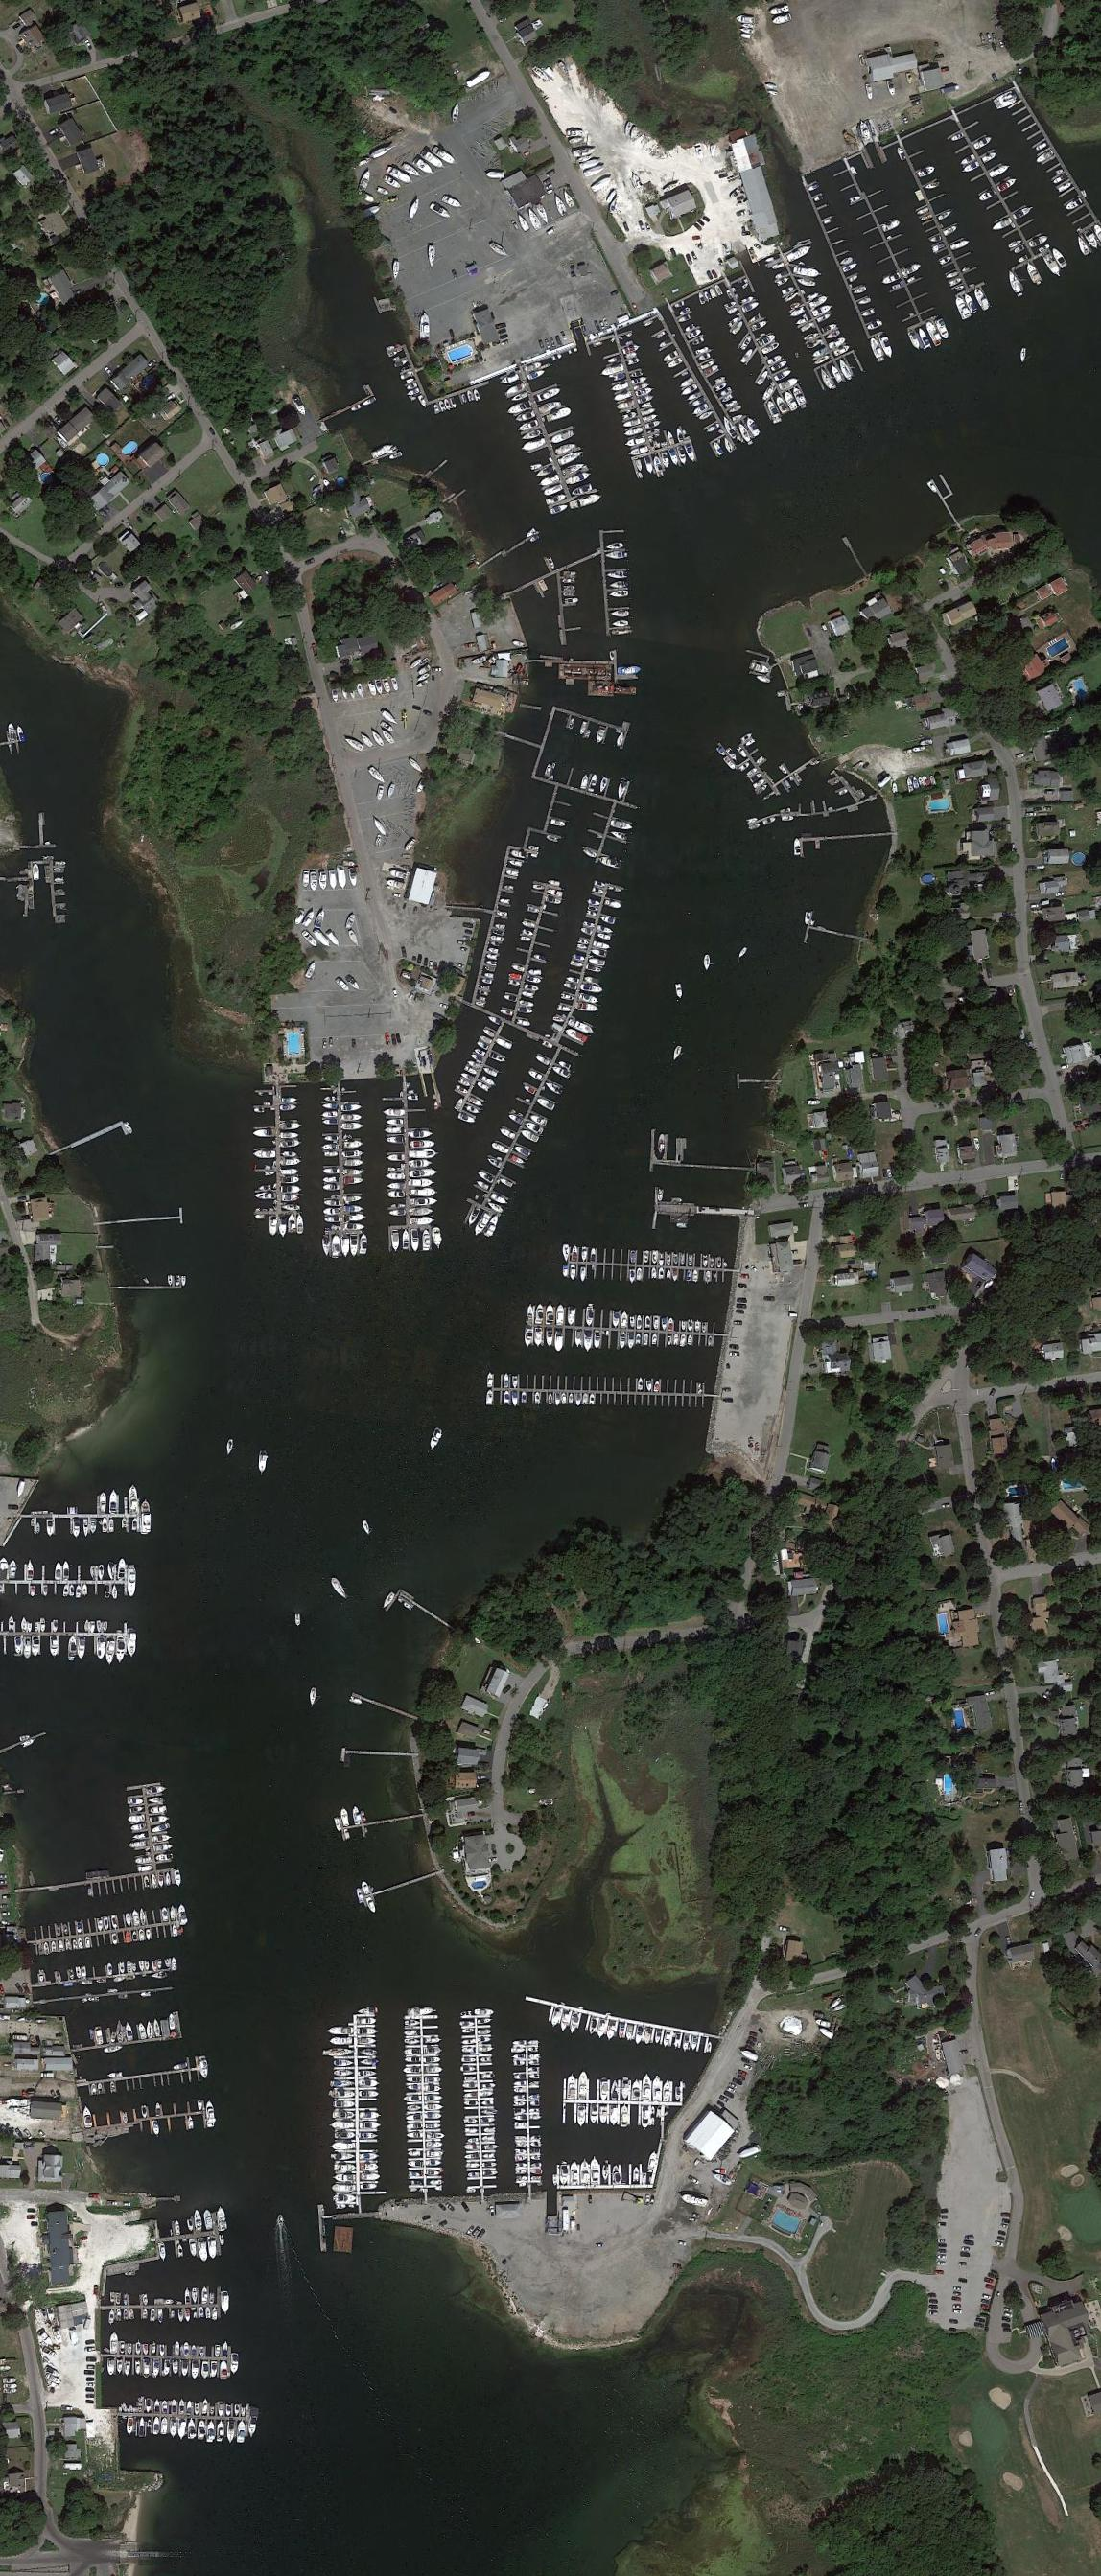harbor: (457, 1040, 578, 1240), (828, 148, 943, 332), (638, 297, 766, 462), (938, 105, 1057, 271), (493, 355, 606, 522), (884, 133, 989, 299), (705, 268, 813, 424), (764, 241, 869, 394), (996, 89, 1099, 235), (802, 169, 887, 342), (518, 1991, 720, 2062), (547, 879, 629, 1046), (524, 1299, 726, 1360), (325, 2003, 381, 2216), (498, 881, 569, 1032), (485, 1368, 716, 1414), (467, 843, 529, 1009), (26, 1902, 192, 1960), (383, 1094, 442, 1252), (598, 330, 669, 457), (440, 1014, 521, 1124), (565, 1242, 738, 1293), (320, 1079, 368, 1258), (120, 2392, 263, 2451), (401, 2006, 445, 2193), (251, 1086, 304, 1235), (30, 1955, 182, 2006), (458, 2008, 498, 2196), (564, 2073, 687, 2132), (20, 1488, 158, 1541), (748, 784, 882, 836), (18, 1863, 182, 1906), (2, 1553, 138, 1603), (2, 1612, 140, 1661), (102, 2338, 243, 2385), (537, 752, 649, 812), (77, 2052, 214, 2100), (89, 2098, 217, 2146), (357, 1851, 447, 1917), (550, 692, 643, 756), (721, 726, 790, 812), (623, 421, 707, 488), (67, 2009, 182, 2057), (651, 1125, 753, 1176), (652, 1184, 744, 1240), (43, 1114, 135, 1168), (102, 2288, 233, 2326), (125, 1779, 176, 1876), (513, 2039, 544, 2195), (575, 795, 639, 871), (385, 1585, 460, 1648), (532, 641, 644, 682), (339, 1792, 426, 1843), (156, 2208, 235, 2262), (600, 529, 633, 637), (795, 826, 896, 859), (527, 779, 580, 841), (805, 913, 873, 961), (557, 2159, 652, 2190), (477, 526, 541, 570), (927, 471, 971, 532), (552, 568, 587, 646), (348, 1689, 421, 1725), (314, 384, 375, 424), (97, 1209, 182, 1234), (340, 1740, 417, 1766), (21, 813, 56, 848), (110, 1278, 186, 1290)
ship: (549, 882, 626, 1043), (674, 302, 748, 422), (475, 848, 526, 1009), (513, 2042, 541, 2185), (629, 1252, 731, 1285), (559, 664, 613, 680), (569, 491, 605, 513), (383, 163, 414, 186), (419, 146, 447, 171), (463, 67, 493, 90), (695, 284, 725, 307), (431, 145, 457, 168), (991, 90, 1019, 112), (557, 449, 587, 468), (1006, 268, 1025, 297), (329, 1574, 350, 1600), (971, 288, 993, 314), (473, 1209, 493, 1237), (785, 243, 813, 263), (1043, 251, 1063, 279), (868, 337, 887, 365), (876, 332, 896, 360), (534, 386, 564, 404), (988, 159, 1012, 181), (532, 200, 552, 227), (564, 1025, 590, 1045), (588, 174, 615, 194), (953, 296, 973, 322), (565, 470, 593, 488), (549, 427, 577, 445), (560, 460, 588, 478), (506, 399, 534, 417), (925, 320, 943, 348), (370, 440, 394, 460), (427, 200, 452, 220), (370, 141, 394, 161), (411, 156, 435, 176), (546, 406, 572, 424), (570, 480, 597, 498), (526, 205, 544, 232), (537, 398, 564, 416), (357, 169, 375, 195), (1050, 245, 1068, 271), (1025, 261, 1043, 288), (792, 264, 823, 279), (680, 2193, 708, 2210), (312, 927, 332, 950), (807, 292, 830, 312), (744, 416, 764, 439), (901, 260, 924, 279), (427, 1426, 445, 1451), (738, 2144, 762, 2162), (552, 192, 570, 217), (782, 389, 800, 414), (720, 416, 738, 440), (1081, 227, 1099, 251), (996, 174, 1020, 192), (521, 437, 547, 453), (588, 682, 615, 698), (766, 399, 782, 425), (490, 240, 511, 260), (368, 764, 388, 785), (406, 756, 426, 777), (291, 394, 309, 417), (465, 1206, 483, 1229), (504, 381, 527, 399), (343, 736, 366, 754), (812, 301, 835, 319), (572, 1019, 595, 1037), (790, 386, 808, 409), (777, 375, 800, 393), (1012, 204, 1035, 222), (1029, 232, 1052, 250), (971, 133, 994, 151), (598, 363, 626, 378), (598, 854, 623, 871), (710, 2172, 735, 2188), (485, 1214, 501, 1239), (544, 491, 569, 508), (963, 292, 979, 317), (818, 366, 835, 391), (838, 356, 855, 381), (577, 2072, 590, 2101), (79, 2104, 94, 2131), (419, 312, 432, 342), (380, 706, 399, 726), (917, 325, 932, 352), (301, 928, 319, 950), (536, 1096, 557, 1114), (519, 1127, 541, 1145), (1035, 148, 1057, 166), (555, 440, 578, 457), (440, 194, 463, 210), (358, 204, 381, 220), (514, 210, 531, 233), (498, 371, 521, 388), (518, 417, 541, 434), (537, 473, 560, 490), (935, 317, 951, 340), (774, 394, 790, 417), (583, 163, 606, 179), (915, 163, 938, 179), (1075, 235, 1091, 258), (856, 118, 873, 141), (107, 1488, 120, 1516), (215, 2205, 228, 2233), (559, 2009, 574, 2034), (248, 2407, 260, 2438), (380, 1590, 398, 1610), (401, 161, 421, 179), (39, 2343, 59, 2361), (532, 66, 552, 84), (552, 1065, 574, 1081), (739, 2047, 761, 2063), (524, 1120, 546, 1137), (544, 1081, 565, 1097), (516, 409, 537, 425), (381, 174, 403, 191), (371, 817, 388, 838), (370, 728, 386, 749), (881, 217, 902, 233), (828, 363, 845, 384), (641, 2073, 652, 2103), (595, 2017, 610, 2040), (141, 1500, 151, 1534), (409, 1148, 439, 1160), (521, 429, 544, 444), (542, 483, 565, 498), (748, 660, 771, 675), (907, 329, 922, 352), (767, 3, 790, 18), (580, 156, 603, 171), (771, 12, 794, 26), (817, 2024, 835, 2042), (38, 2331, 56, 2349), (623, 435, 647, 449), (569, 2011, 582, 2036), (197, 2055, 210, 2080), (325, 928, 342, 948), (498, 1125, 518, 1142), (529, 1112, 549, 1129), (513, 1143, 532, 1160), (486, 1201, 506, 1217), (490, 1191, 509, 1207), (827, 335, 846, 352), (661, 348, 680, 365), (570, 145, 595, 158), (756, 332, 776, 348), (978, 187, 997, 204), (327, 2024, 355, 2036), (652, 2075, 664, 2103), (105, 1638, 117, 1666), (207, 2234, 219, 2262), (409, 1168, 437, 1180), (409, 1216, 437, 1227), (526, 368, 547, 383), (509, 389, 531, 404), (386, 877, 408, 892), (314, 908, 329, 930), (536, 465, 557, 480), (881, 271, 902, 286), (738, 422, 753, 444), (610, 379, 631, 394), (991, 217, 1012, 232), (950, 237, 971, 251), (759, 340, 781, 355), (128, 1483, 138, 1515), (605, 2019, 618, 2042), (639, 2104, 651, 2131), (197, 2236, 209, 2262), (408, 1129, 434, 1140), (408, 197, 421, 220), (449, 102, 462, 125), (335, 976, 352, 994), (491, 1140, 509, 1157), (485, 1155, 503, 1171), (360, 731, 376, 749), (380, 728, 396, 746), (1065, 197, 1083, 214), (526, 1068, 546, 1083), (532, 1053, 552, 1068), (670, 1043, 685, 1063), (593, 726, 608, 746), (115, 1636, 125, 1666), (302, 908, 317, 928), (409, 1188, 439, 1198), (495, 1037, 514, 1051), (549, 503, 569, 517), (629, 171, 644, 191), (832, 343, 851, 358), (761, 383, 776, 402), (616, 398, 636, 412), (621, 342, 641, 356), (680, 383, 700, 398), (690, 402, 710, 417), (774, 368, 794, 383), (769, 358, 789, 373), (958, 153, 978, 168), (961, 161, 981, 176), (334, 2162, 358, 2173), (652, 455, 664, 480), (616, 777, 628, 802), (204, 2208, 215, 2233), (667, 447, 680, 468), (684, 442, 697, 463), (388, 867, 409, 881), (633, 386, 654, 399), (646, 2150, 659, 2172), (797, 276, 818, 289), (613, 391, 634, 404), (409, 2008, 437, 2017), (205, 2100, 215, 2127), (411, 1196, 439, 1206), (337, 862, 347, 890), (128, 1564, 136, 1597), (345, 973, 360, 991), (467, 1094, 485, 1109), (478, 1170, 496, 1184), (822, 320, 840, 335), (805, 337, 823, 352), (789, 306, 807, 320), (766, 353, 784, 368), (334, 2193, 357, 2205), (611, 820, 634, 831), (618, 664, 641, 675), (559, 2162, 570, 2185), (123, 2019, 135, 2042), (177, 1902, 189, 1925), (330, 1235, 342, 1258), (186, 2418, 197, 2441), (215, 2420, 227, 2443), (332, 2183, 358, 2193), (330, 2080, 357, 2090), (330, 2121, 357, 2131), (643, 455, 656, 475), (587, 2016, 600, 2036), (590, 2159, 600, 2185), (567, 2075, 577, 2101), (258, 1449, 268, 1475), (294, 907, 307, 927), (409, 1207, 435, 1217), (457, 1112, 477, 1125), (432, 1226, 442, 1252), (347, 928, 360, 948), (523, 361, 542, 375), (355, 680, 368, 700), (44, 2372, 64, 2385), (629, 375, 649, 388), (662, 181, 682, 194), (741, 301, 761, 314), (749, 319, 769, 332), (736, 13, 756, 26), (979, 151, 999, 164), (324, 2049, 355, 2057), (128, 1628, 136, 1659), (656, 1132, 667, 1153), (675, 444, 687, 465), (629, 445, 651, 457), (623, 427, 644, 439), (588, 772, 600, 793), (550, 2006, 562, 2027), (102, 2044, 123, 2055), (7, 721, 18, 743), (125, 2417, 136, 2438), (578, 994, 600, 1005), (578, 1002, 600, 1014), (355, 2006, 380, 2016), (526, 1301, 536, 1326), (332, 2100, 357, 2109), (358, 2121, 383, 2131), (580, 2160, 590, 2185), (49, 1635, 59, 1659), (67, 1636, 77, 1661), (77, 1636, 87, 1661), (110, 2331, 120, 2356), (222, 2290, 232, 2315), (192, 2208, 202, 2233), (251, 1150, 276, 1160), (427, 243, 437, 268), (205, 2420, 215, 2445), (237, 2420, 246, 2445), (414, 777, 429, 793), (403, 836, 417, 853), (878, 774, 894, 789), (828, 1994, 843, 2011), (800, 320, 817, 335), (580, 984, 605, 994), (739, 348, 754, 365), (756, 370, 771, 386), (667, 356, 684, 371), (679, 376, 695, 391), (725, 746, 739, 762), (228, 618, 245, 632), (365, 1896, 378, 1914), (304, 961, 317, 979), (480, 1074, 498, 1088), (508, 1153, 526, 1166), (638, 393, 656, 406), (51, 2326, 64, 2344), (841, 261, 859, 274), (825, 329, 843, 342), (817, 312, 835, 325), (812, 353, 830, 366), (800, 330, 818, 343), (409, 1180, 437, 1188), (352, 1805, 363, 1825), (567, 1304, 577, 1327), (335, 2173, 358, 2183), (330, 2036, 353, 2045), (334, 2067, 353, 2078), (334, 2131, 357, 2141), (583, 1329, 593, 1352), (585, 1304, 595, 1327), (610, 830, 629, 841), (570, 2162, 580, 2185), (620, 2104, 629, 2127), (577, 2103, 587, 2126), (23, 1636, 33, 1659), (31, 1635, 41, 1658), (117, 1557, 127, 1580), (151, 1822, 171, 1833), (151, 1843, 174, 1853), (133, 1855, 153, 1866), (279, 1122, 302, 1132), (253, 1129, 276, 1138), (268, 1214, 278, 1237), (386, 1171, 406, 1183), (342, 1122, 365, 1132), (342, 1235, 352, 1258), (151, 2417, 163, 2436), (485, 169, 504, 181), (329, 867, 339, 890), (348, 864, 358, 887), (615, 685, 638, 695), (44, 2381, 64, 2392), (603, 899, 623, 910), (784, 289, 799, 304), (721, 756, 736, 770), (330, 2154, 357, 2162), (330, 2090, 357, 2098), (330, 2142, 357, 2150), (582, 846, 598, 859), (605, 552, 631, 560), (362, 394, 378, 407), (490, 1051, 506, 1065), (232, 2349, 240, 2376), (508, 1114, 524, 1127), (475, 1081, 491, 1094), (475, 1178, 491, 1191), (498, 1176, 514, 1189), (44, 2366, 61, 2379), (948, 276, 965, 289), (932, 241, 948, 255), (721, 437, 735, 453), (712, 440, 725, 457), (731, 320, 744, 337), (741, 335, 754, 352), (687, 391, 703, 404), (698, 409, 715, 422), (937, 209, 953, 222), (943, 225, 960, 238), (1052, 172, 1068, 186), (896, 146, 909, 163), (950, 131, 966, 145), (360, 191, 376, 204), (322, 478, 335, 495), (309, 1686, 319, 1707), (611, 1308, 621, 1329), (608, 590, 629, 600), (608, 570, 629, 580), (634, 2024, 644, 2045), (296, 1214, 306, 1235), (13, 1635, 23, 1656), (72, 1518, 82, 1539), (150, 1814, 171, 1824), (158, 2241, 168, 2262), (151, 1833, 173, 1843), (128, 1840, 150, 1850), (225, 1436, 235, 1457), (279, 1138, 301, 1148), (256, 1191, 278, 1201), (386, 1181, 408, 1191), (322, 1207, 343, 1217), (383, 1107, 404, 1117), (345, 1212, 366, 1222), (422, 1231, 432, 1252), (136, 2417, 146, 2438), (169, 2417, 179, 2438), (177, 2418, 187, 2440), (644, 419, 662, 430), (623, 417, 641, 429), (641, 412, 659, 424), (598, 775, 610, 793), (130, 1822, 148, 1833), (136, 2022, 148, 2040), (156, 1851, 174, 1863), (171, 2060, 189, 2072), (15, 724, 26, 743), (463, 1104, 481, 1115), (345, 913, 357, 931), (386, 782, 398, 800), (547, 887, 565, 899), (381, 675, 393, 693), (368, 678, 380, 697), (639, 406, 657, 417), (583, 974, 601, 986), (588, 956, 606, 968), (597, 925, 615, 936), (886, 79, 897, 97), (546, 1301, 554, 1326), (555, 1327, 564, 1352), (332, 2111, 357, 2119), (358, 2111, 383, 2119), (621, 2077, 629, 2101), (97, 1636, 105, 1661), (409, 1140, 434, 1148), (409, 1160, 434, 1168), (350, 1234, 358, 1258), (340, 1809, 350, 1828), (355, 1886, 365, 1906), (488, 1014, 503, 1027), (422, 2045, 442, 2055), (360, 2057, 380, 2067), (358, 2068, 378, 2078), (682, 2032, 692, 2052), (662, 2029, 672, 2049), (611, 2165, 621, 2185), (480, 1033, 495, 1046), (125, 1797, 145, 1807), (146, 1784, 166, 1794), (146, 1796, 166, 1805), (148, 1805, 168, 1815), (145, 2021, 154, 2040), (94, 2026, 104, 2045), (153, 2118, 163, 2137), (141, 2359, 151, 2379), (309, 871, 319, 890), (283, 1184, 302, 1194), (523, 1084, 537, 1097), (549, 818, 569, 828), (509, 849, 529, 859), (380, 720, 394, 733), (781, 284, 795, 297), (748, 312, 762, 325), (557, 61, 570, 76), (938, 255, 953, 268), (925, 480, 938, 495), (592, 940, 611, 950), (1057, 181, 1071, 194), (1034, 140, 1048, 153), (16, 1479, 26, 1498), (739, 731, 754, 744), (360, 1879, 371, 1896), (357, 2027, 380, 2036), (536, 1303, 544, 1326), (557, 1303, 565, 1326), (360, 2173, 383, 2182), (358, 2152, 381, 2160), (388, 450, 404, 462), (498, 1007, 514, 1019), (600, 2078, 608, 2101), (279, 1158, 302, 1166), (342, 1150, 365, 1158), (483, 1066, 500, 1078), (468, 1053, 485, 1065), (411, 1229, 419, 1252), (227, 2420, 235, 2443), (756, 674, 772, 685), (703, 365, 720, 376), (700, 358, 716, 370), (685, 329, 702, 340), (840, 255, 856, 266), (812, 347, 828, 358), (564, 981, 580, 992), (592, 948, 608, 959), (509, 963, 526, 974), (925, 179, 942, 191), (117, 2021, 125, 2044), (393, 358, 409, 370), (472, 656, 488, 667), (186, 2114, 196, 2132), (173, 2218, 182, 2236), (406, 2113, 424, 2123), (666, 429, 675, 447), (621, 411, 639, 421), (616, 731, 626, 749), (605, 540, 623, 550), (813, 2017, 832, 2027), (514, 1019, 532, 1028), (624, 2024, 634, 2042), (128, 1805, 146, 1815), (128, 1814, 146, 1824), (181, 2359, 191, 2377), (324, 1175, 342, 1184), (320, 1101, 339, 1111), (376, 784, 386, 802), (905, 775, 915, 793), (610, 195, 620, 214), (792, 838, 802, 856), (864, 82, 874, 100), (575, 154, 593, 164), (422, 2113, 444, 2121), (524, 1327, 532, 1349), (358, 2090, 380, 2098), (358, 2132, 380, 2141), (608, 580, 629, 588), (664, 2081, 672, 2103), (633, 2080, 641, 2101), (610, 2104, 618, 2126), (590, 2103, 598, 2124), (26, 1559, 35, 1580), (99, 1492, 107, 1513), (107, 2356, 115, 2377), (153, 2017, 161, 2039), (191, 2359, 199, 2381), (220, 2361, 228, 2382), (279, 1216, 288, 1237), (342, 1196, 363, 1204), (383, 1125, 404, 1134), (322, 1235, 330, 1257), (360, 1234, 368, 1255), (391, 1231, 399, 1252), (403, 1229, 411, 1250), (197, 2420, 205, 2441), (611, 628, 633, 636), (409, 657, 422, 670), (736, 746, 749, 759), (481, 1028, 496, 1040), (559, 1060, 574, 1071), (475, 1040, 490, 1051), (457, 1076, 472, 1088), (460, 1071, 475, 1083), (463, 1065, 478, 1076), (417, 664, 432, 675), (416, 672, 431, 683), (754, 784, 769, 795), (795, 315, 810, 327), (677, 314, 692, 325), (695, 145, 707, 159), (915, 205, 930, 217), (919, 214, 933, 225), (853, 284, 868, 296), (861, 307, 876, 319), (597, 931, 611, 943), (707, 422, 721, 434), (721, 299, 736, 310), (692, 398, 707, 409), (1007, 238, 1022, 250), (21, 1736, 36, 1748), (399, 370, 414, 381), (406, 388, 421, 399), (376, 186, 391, 197), (744, 767, 759, 779), (123, 1120, 135, 1135), (133, 1909, 141, 1929), (406, 2131, 426, 2139), (426, 2131, 445, 2139), (426, 2150, 445, 2159), (123, 2361, 133, 2377), (362, 1518, 371, 1534), (406, 2103, 422, 2113), (534, 1327, 542, 1347), (360, 2162, 380, 2170), (404, 2047, 421, 2057), (403, 2067, 422, 2075), (424, 2067, 444, 2075), (424, 2093, 444, 2101), (358, 2037, 378, 2045), (358, 2047, 378, 2055), (334, 2059, 353, 2067), (169, 2400, 179, 2417), (675, 982, 685, 999), (618, 1329, 626, 1349), (662, 450, 670, 470), (544, 762, 554, 779), (578, 720, 588, 736), (503, 994, 519, 1004), (524, 982, 541, 992), (526, 974, 542, 984), (601, 2162, 610, 2182), (600, 2104, 608, 2124), (54, 1562, 62, 1582), (10, 1559, 18, 1579), (62, 1561, 71, 1580), (189, 2238, 197, 2257), (202, 2361, 210, 2381), (136, 1863, 153, 1873), (174, 1870, 182, 1889), (107, 2070, 123, 2080), (281, 1176, 301, 1184), (283, 1203, 302, 1211), (386, 1153, 406, 1161), (386, 1191, 406, 1199), (342, 1104, 362, 1112), (342, 1114, 362, 1122), (343, 1140, 363, 1148), (393, 260, 401, 279), (546, 897, 562, 907), (725, 399, 741, 409), (973, 1137, 983, 1153), (624, 120, 633, 140), (629, 125, 639, 141), (587, 964, 603, 974), (600, 915, 616, 925), (532, 953, 549, 963), (358, 2080, 381, 2086), (350, 402, 363, 414), (473, 1046, 486, 1058), (342, 1168, 365, 1175), (345, 1224, 368, 1231), (320, 869, 327, 892), (417, 657, 431, 669), (531, 462, 544, 473), (659, 337, 672, 348), (730, 404, 743, 416), (720, 386, 733, 398), (777, 276, 790, 288), (807, 291, 820, 302), (1039, 243, 1052, 255), (953, 284, 966, 296), (726, 306, 739, 317), (726, 315, 738, 329), (524, 529, 537, 540), (715, 743, 726, 756), (753, 779, 766, 790), (749, 772, 762, 784), (738, 761, 749, 774), (777, 764, 789, 777), (161, 1906, 169, 1924), (104, 1914, 112, 1932), (426, 2141, 444, 2149), (463, 2152, 481, 2160), (424, 2037, 442, 2045), (404, 2095, 422, 2103), (562, 1244, 570, 1262), (593, 1331, 601, 1349), (621, 1311, 629, 1329), (703, 953, 712, 971), (582, 772, 590, 790), (611, 609, 629, 618), (475, 2017, 493, 2026), (690, 2034, 698, 2052), (654, 2027, 662, 2045), (131, 1832, 150, 1840), (279, 1104, 297, 1112), (281, 1168, 299, 1176), (260, 1183, 278, 1191), (283, 1194, 301, 1203), (302, 869, 311, 887), (33, 864, 41, 882), (386, 1117, 404, 1125), (322, 1119, 340, 1127), (322, 1143, 340, 1152), (324, 1166, 342, 1175), (324, 1216, 342, 1224), (391, 675, 399, 693), (375, 678, 383, 697), (569, 136, 587, 145), (44, 866, 53, 884), (483, 2160, 498, 2170), (570, 1247, 580, 1262), (417, 394, 427, 409), (521, 989, 536, 999), (454, 1097, 463, 1112), (467, 1060, 481, 1070), (608, 355, 623, 365), (608, 884, 623, 894), (39, 2308, 49, 2323), (715, 383, 730, 393), (606, 189, 616, 204), (697, 352, 712, 361), (708, 286, 718, 301), (919, 738, 933, 747), (858, 296, 873, 306), (762, 817, 777, 826), (738, 945, 748, 959), (422, 2103, 444, 2109), (422, 2085, 444, 2091), (473, 2009, 495, 2016), (385, 1137, 406, 1143), (343, 1160, 365, 1166), (125, 1912, 133, 1929), (406, 2123, 422, 2131), (426, 2123, 442, 2131), (182, 2341, 191, 2357), (145, 2397, 153, 2413), (151, 1971, 168, 1980), (486, 1372, 495, 1388), (486, 1390, 495, 1406), (404, 2019, 421, 2027), (406, 2077, 422, 2085), (652, 1314, 661, 1331), (675, 427, 684, 444), (613, 619, 629, 628), (460, 2047, 477, 2055), (480, 2116, 496, 2124), (480, 2081, 496, 2090), (462, 2081, 478, 2090), (480, 2072, 496, 2080), (508, 973, 524, 981), (616, 2022, 624, 2039), (633, 2167, 641, 2183), (90, 1518, 99, 1534), (168, 2014, 176, 2031), (143, 1875, 151, 1891), (389, 1209, 406, 1217), (324, 1199, 340, 1207), (322, 1111, 339, 1119), (48, 2308, 56, 2325), (715, 375, 726, 386), (679, 306, 690, 317), (406, 381, 417, 393), (43, 1942, 53, 1955), (358, 2017, 378, 2024), (547, 1327, 554, 1347), (360, 2183, 380, 2190), (422, 2057, 442, 2063), (424, 2077, 444, 2083), (634, 1332, 644, 1345), (611, 2081, 618, 2101), (108, 1561, 115, 1580), (289, 1214, 296, 1234), (345, 1206, 365, 1212), (345, 1178, 365, 1184), (513, 639, 526, 649), (776, 271, 789, 281), (772, 261, 785, 271), (807, 182, 820, 192), (850, 194, 863, 204), (692, 337, 705, 347), (684, 324, 697, 333), (715, 284, 725, 297), (741, 296, 754, 306), (634, 460, 644, 473), (851, 761, 864, 770), (930, 235, 943, 245), (868, 320, 881, 330), (582, 927, 595, 936), (541, 1040, 554, 1050), (547, 557, 557, 570), (408, 2150, 422, 2159), (408, 2170, 422, 2178), (171, 1957, 179, 1971), (154, 2101, 163, 2116), (176, 2244, 184, 2259), (404, 2029, 419, 2037), (687, 1318, 695, 1332), (667, 1318, 675, 1332), (636, 1316, 644, 1331), (546, 835, 560, 843), (565, 596, 580, 605), (465, 2127, 480, 2136), (131, 1518, 140, 1533), (173, 2359, 181, 2374), (509, 859, 524, 867), (547, 879, 562, 887), (350, 1697, 365, 1705), (629, 371, 644, 379), (695, 347, 710, 355), (698, 291, 707, 306), (739, 26, 754, 34), (945, 271, 960, 279), (833, 2004, 848, 2012), (587, 899, 601, 907), (557, 1005, 572, 1014), (560, 994, 575, 1002), (521, 928, 536, 936), (491, 928, 506, 936), (521, 920, 536, 928), (444, 398, 452, 412), (348, 685, 357, 700), (426, 2170, 444, 2177), (210, 2361, 217, 2379), (117, 2356, 123, 2374), (202, 2287, 209, 2305), (179, 2397, 186, 2415), (404, 2057, 422, 2063), (575, 1329, 582, 1347), (628, 1331, 634, 1349), (202, 2399, 209, 2417), (217, 2400, 223, 2418), (462, 2101, 480, 2108), (48, 1518, 54, 1536), (90, 1564, 97, 1582), (281, 1132, 299, 1138), (154, 2359, 161, 2377), (324, 1184, 342, 1191), (161, 2417, 168, 2435), (281, 1097, 299, 1104), (644, 319, 656, 329), (794, 772, 804, 784), (721, 394, 733, 404), (922, 775, 932, 787), (813, 194, 825, 204), (790, 301, 802, 310), (1014, 245, 1025, 255), (1017, 255, 1029, 264), (140, 1909, 146, 1925), (112, 1914, 118, 1930), (463, 2144, 480, 2150), (426, 2160, 442, 2167), (408, 2160, 424, 2167), (481, 2170, 498, 2177), (467, 2162, 480, 2170), (483, 2152, 496, 2160), (97, 1916, 104, 1932), (135, 2343, 143, 2356), (135, 2359, 141, 2376), (118, 1960, 125, 1976), (335, 1815, 342, 1832), (534, 1392, 542, 1405), (513, 1373, 519, 1390), (404, 2039, 421, 2045), (186, 2400, 192, 2417), (679, 1334, 687, 1347), (570, 1263, 577, 1280), (580, 1265, 587, 1281), (582, 1247, 588, 1263), (643, 1334, 651, 1347), (638, 1375, 644, 1392), (194, 2400, 200, 2417), (518, 1007, 534, 1014), (519, 1000, 536, 1007), (478, 2037, 491, 2045), (478, 2047, 495, 2054), (460, 2057, 477, 2063), (462, 2118, 478, 2124), (481, 2109, 498, 2116), (508, 979, 521, 987), (644, 2027, 651, 2044), (102, 1518, 108, 1534), (112, 1584, 118, 1600), (99, 1564, 105, 1580), (151, 1873, 158, 1889), (158, 1873, 164, 1889), (283, 1152, 299, 1158), (322, 1150, 339, 1157), (455, 1086, 468, 1094), (628, 358, 641, 366), (593, 879, 606, 887), (3, 2384, 20, 2390), (912, 775, 920, 789), (850, 164, 858, 177), (764, 82, 777, 90), (766, 89, 779, 97), (1020, 347, 1027, 363), (636, 1268, 644, 1281), (651, 1249, 657, 1265), (583, 920, 597, 928), (552, 1017, 565, 1025), (486, 946, 500, 954), (527, 844, 541, 853), (506, 869, 519, 877), (8, 1615, 15, 1631), (590, 1247, 598, 1260), (113, 1975, 127, 1983), (537, 1799, 554, 1805), (439, 399, 447, 412), (467, 389, 475, 402), (473, 388, 481, 401), (527, 907, 541, 915), (567, 130, 583, 136), (342, 685, 348, 701), (77, 1937, 84, 1952), (483, 2144, 498, 2150), (77, 1921, 84, 1935), (158, 2308, 164, 2323), (118, 2339, 125, 2354), (174, 2341, 181, 2356), (154, 2400, 161, 2415), (161, 2400, 168, 2415), (108, 2310, 115, 2325), (179, 2308, 186, 2323), (186, 2308, 192, 2323), (107, 1962, 113, 1976), (141, 2103, 148, 2118), (122, 2109, 128, 2124), (187, 2218, 194, 2233), (184, 2290, 191, 2305), (503, 1392, 509, 1406), (503, 1373, 509, 1388), (408, 2085, 422, 2091), (575, 1392, 582, 1406), (646, 1378, 652, 1393), (661, 1318, 667, 1332), (462, 2039, 477, 2045), (460, 2021, 475, 2027), (225, 2403, 232, 2418), (463, 2091, 478, 2098), (480, 2091, 495, 2098), (462, 2067, 477, 2073), (108, 1518, 115, 1533), (84, 1518, 89, 1538), (164, 1873, 171, 1888), (324, 1135, 339, 1142), (656, 330, 666, 340), (807, 1099, 822, 1106), (746, 738, 756, 747), (756, 756, 766, 766), (3, 2377, 18, 2384), (3, 2389, 18, 2395), (514, 2155, 529, 2162), (513, 2114, 527, 2121), (804, 910, 810, 925), (629, 1268, 636, 1283), (629, 1250, 636, 1265), (659, 1252, 666, 1267), (572, 954, 587, 961), (565, 976, 580, 982), (680, 1252, 687, 1267), (702, 1253, 708, 1268), (716, 1255, 723, 1270), (657, 1186, 664, 1201), (391, 1203, 406, 1209), (64, 1940, 72, 1952), (84, 1937, 92, 1948), (468, 2170, 480, 2178), (560, 1393, 569, 1405), (687, 1336, 695, 1347), (417, 680, 429, 688), (626, 352, 638, 360), (733, 414, 744, 422), (141, 2293, 150, 2305), (930, 775, 938, 787), (587, 905, 598, 913), (490, 940, 501, 948), (486, 953, 498, 961), (529, 536, 541, 544), (343, 1828, 352, 1840), (449, 398, 457, 409), (223, 2341, 228, 2359), (192, 2287, 197, 2305), (513, 1390, 518, 1408), (164, 2359, 169, 2377), (131, 1930, 138, 1943), (59, 1940, 66, 1953), (72, 1939, 79, 1952), (112, 1934, 118, 1947), (125, 1930, 131, 1943), (483, 2136, 496, 2142), (431, 2178, 444, 2185), (159, 2343, 166, 2356), (191, 2344, 197, 2357), (199, 2344, 205, 2357), (127, 1960, 133, 1973), (212, 2308, 219, 2321), (554, 1393, 560, 1406), (294, 1613, 301, 1626), (521, 1392, 527, 1405), (674, 1334, 680, 1347), (680, 1319, 687, 1332), (562, 1265, 569, 1278), (654, 1380, 661, 1393), (628, 1316, 634, 1329), (644, 1316, 651, 1329), (478, 2029, 491, 2036), (462, 2027, 475, 2034), (481, 2101, 495, 2108), (463, 2075, 477, 2081), (480, 2057, 493, 2063), (529, 968, 542, 974), (64, 1585, 71, 1598), (76, 1585, 82, 1598), (82, 1584, 89, 1597), (564, 570, 577, 577), (150, 2308, 156, 2321), (278, 2215, 284, 2228), (511, 2047, 524, 2054), (513, 2039, 526, 2045), (531, 2175, 544, 2182), (527, 2067, 541, 2073), (656, 2106, 662, 2119), (516, 2169, 529, 2175), (514, 2121, 527, 2127), (570, 961, 583, 968), (672, 1268, 679, 1281), (495, 923, 508, 930), (592, 887, 605, 894), (53, 1620, 59, 1633), (105, 1585, 112, 1598), (95, 1620, 102, 1633), (84, 1620, 90, 1633), (38, 1942, 44, 1955), (76, 1967, 82, 1980), (748, 823, 761, 830), (253, 1107, 266, 1114), (171, 1906, 176, 1922), (235, 2402, 240, 2418), (675, 2085, 680, 2101), (675, 2032, 680, 2049), (334, 685, 339, 701), (560, 578, 577, 583), (840, 789, 850, 797), (850, 274, 859, 283), (644, 1249, 649, 1265), (403, 1602, 412, 1610), (39, 1617, 44, 1633), (406, 376, 416, 384), (51, 1942, 58, 1953), (138, 1930, 145, 1942), (173, 1925, 179, 1937), (465, 2188, 477, 2195), (151, 1960, 158, 1971), (197, 2101, 204, 2113), (569, 1393, 575, 1405), (651, 1334, 657, 1345), (582, 1393, 588, 1405), (588, 1393, 595, 1405), (485, 2127, 496, 2134), (707, 2042, 713, 2054), (122, 1518, 128, 1529), (460, 2011, 472, 2017), (564, 591, 575, 598), (569, 718, 575, 729), (529, 2054, 541, 2060), (163, 2298, 174, 2305), (219, 2234, 225, 2246), (531, 2162, 542, 2169), (531, 2147, 542, 2154), (531, 2134, 542, 2141), (529, 2093, 541, 2100), (529, 2080, 541, 2086), (514, 2073, 526, 2080), (514, 2086, 526, 2093), (209, 2405, 215, 2417), (715, 2169, 726, 2175), (518, 2175, 529, 2182), (516, 2142, 527, 2149), (514, 2108, 526, 2114), (892, 782, 899, 793), (703, 291, 710, 302), (726, 289, 733, 301), (741, 33, 753, 39), (651, 1267, 657, 1278), (578, 940, 590, 946), (587, 910, 598, 917), (666, 1270, 672, 1281), (692, 1270, 698, 1281), (496, 910, 508, 917), (491, 935, 503, 941), (486, 959, 498, 966), (485, 966, 496, 973), (481, 978, 493, 984), (480, 984, 491, 991), (478, 991, 490, 997), (475, 1000, 486, 1007), (255, 1214, 266, 1221), (110, 2032, 117, 2044), (89, 2029, 95, 2040), (90, 2083, 97, 2095), (110, 2081, 117, 2093), (125, 1975, 136, 1981), (140, 1991, 151, 1998), (20, 1735, 31, 1741), (62, 1924, 69, 1935), (532, 884, 544, 890), (151, 2341, 156, 2356), (912, 747, 927, 752), (667, 1252, 672, 1267), (674, 1252, 679, 1267), (21, 1617, 26, 1631), (743, 281, 751, 289), (907, 276, 915, 284), (146, 1929, 151, 1942), (143, 2343, 148, 2356), (215, 2344, 220, 2357), (82, 1965, 87, 1978), (695, 1319, 700, 1332), (527, 2047, 541, 2052), (610, 651, 616, 660), (585, 728, 592, 738), (529, 2039, 539, 2045), (117, 2308, 122, 2321), (205, 2307, 210, 2320), (514, 2081, 527, 2086), (513, 2054, 526, 2059), (519, 2182, 529, 2188), (529, 2114, 542, 2119), (529, 2101, 542, 2106), (527, 2075, 541, 2080), (643, 2172, 647, 2185), (516, 2162, 529, 2167), (514, 2136, 527, 2141), (919, 777, 925, 787), (687, 1270, 692, 1283), (689, 1253, 693, 1267), (710, 1255, 715, 1268), (519, 936, 532, 941), (485, 973, 495, 979), (30, 1587, 36, 1597), (255, 1207, 268, 1212), (79, 1980, 92, 1985), (69, 1970, 76, 1980), (168, 1275, 173, 1288), (386, 345, 396, 352), (388, 352, 398, 358), (434, 404, 440, 414), (462, 393, 468, 402), (782, 817, 795, 821), (468, 2137, 480, 2142), (128, 2343, 133, 2354), (140, 1960, 145, 1971), (145, 1960, 150, 1971), (549, 1393, 554, 1405), (667, 1334, 672, 1345), (708, 1336, 713, 1347), (702, 1321, 707, 1332), (71, 1585, 76, 1597), (564, 585, 575, 590), (672, 1198, 684, 1203), (675, 1224, 687, 1229), (123, 2308, 128, 2320), (123, 2293, 128, 2305), (117, 2293, 122, 2305), (130, 2308, 135, 2320), (529, 2060, 541, 2065), (210, 2293, 215, 2305), (514, 2062, 526, 2067), (531, 2169, 542, 2173), (531, 2155, 542, 2160), (531, 2142, 542, 2147), (529, 2108, 541, 2113), (514, 2095, 526, 2100), (554, 2173, 559, 2185), (516, 2149, 527, 2154), (514, 2101, 526, 2106), (577, 945, 588, 950), (265, 1171, 276, 1176), (500, 899, 511, 904), (43, 1585, 48, 1597), (28, 1621, 33, 1633), (35, 1621, 39, 1633), (95, 1978, 107, 1983), (36, 1523, 41, 1534), (90, 1621, 95, 1633), (56, 1925, 61, 1937), (176, 1275, 181, 1286), (408, 1096, 419, 1101), (54, 861, 66, 866), (961, 266, 970, 273), (892, 284, 901, 291), (434, 1101, 439, 1111), (199, 2307, 204, 2316), (125, 2270, 135, 2275), (110, 2293, 115, 2303), (143, 2310, 148, 2320), (337, 2205, 347, 2210), (478, 997, 488, 1002), (504, 885, 514, 890), (64, 1983, 74, 1988), (99, 2083, 104, 2093), (104, 1621, 108, 1631), (411, 2182, 424, 2185), (661, 1267, 664, 1280), (87, 1998, 100, 2001), (651, 2118, 656, 2126), (171, 2311, 176, 2320), (87, 1888, 92, 1896), (158, 1960, 163, 1968), (707, 1272, 710, 1283), (107, 1989, 118, 1993), (324, 1097, 335, 1101), (652, 2106, 656, 2114), (435, 2187, 442, 2190)
